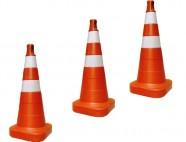traffic_cone: (129, 0, 173, 98), (9, 43, 52, 142), (72, 18, 115, 117)
